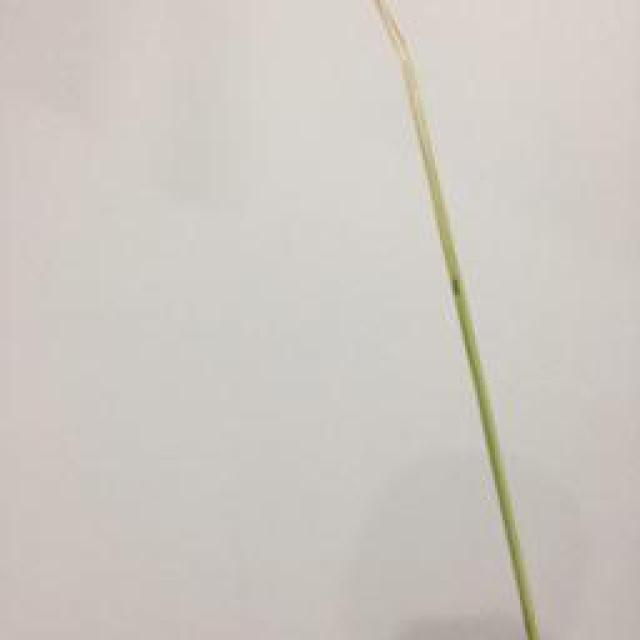Brown_Spot: (432, 248, 484, 328)
